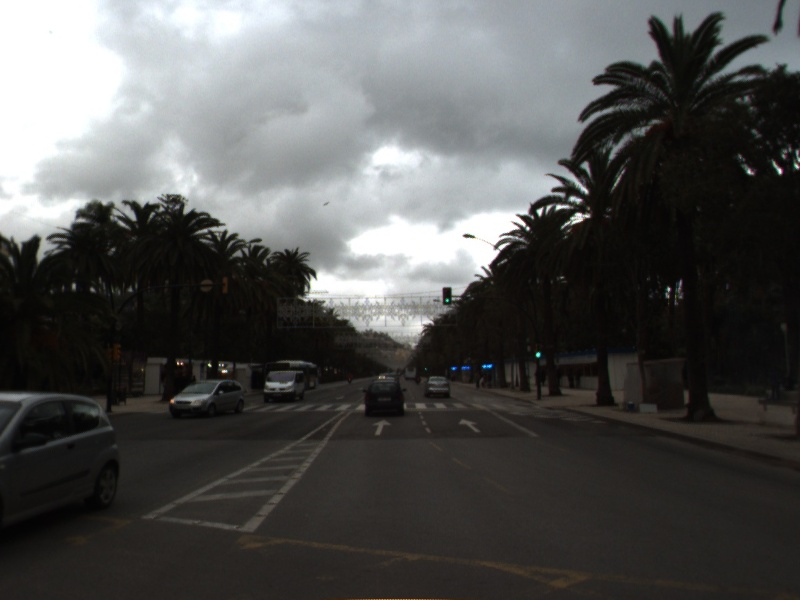STRAIGHT: (456, 416, 483, 434), (370, 417, 394, 437)
